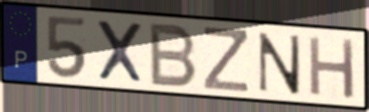5: (45, 15, 89, 81)
B: (147, 21, 200, 89)
H: (306, 34, 357, 101)
N: (256, 30, 303, 97)
X: (94, 17, 147, 86)
Z: (202, 24, 251, 95)
